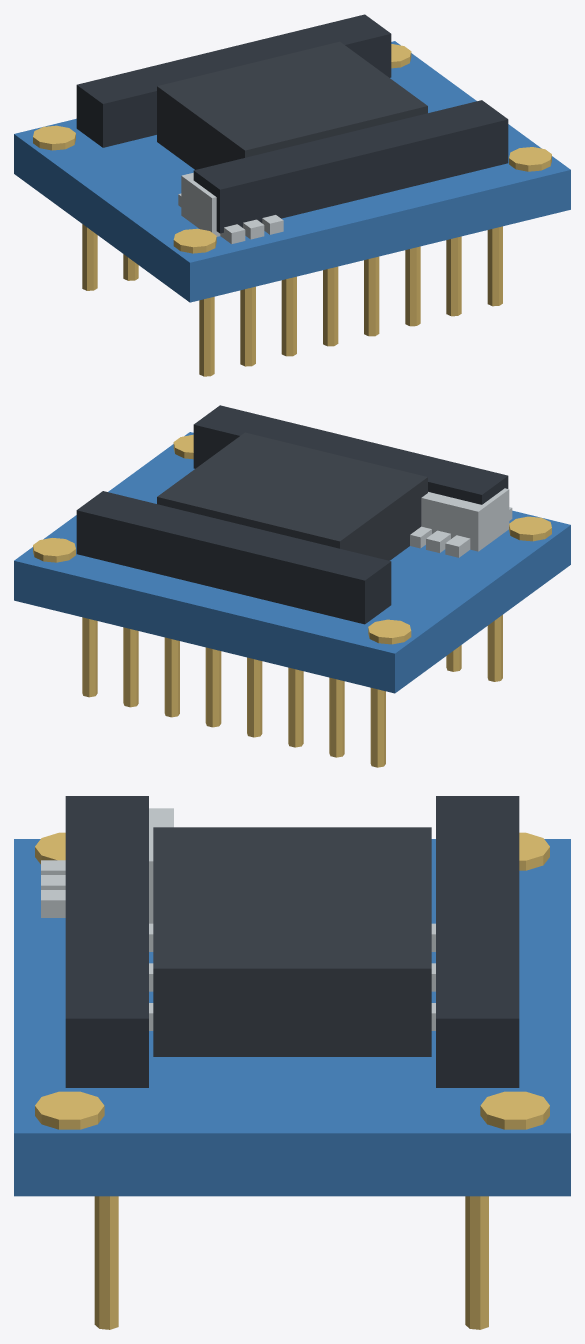
File: product-10.glb
The picture shows the model from 3 angles, top to bottom: view 1: azimuth 30°, elevation 25°; view 2: azimuth 150°, elevation 25°; view 3: azimuth 270°, elevation 25°; orthographic projection. The views are drawn at different scales.
Visible parts, largest first — view 1: product-10; view 2: product-10; view 3: product-10.
Boxes of the visible parts, x1,y1,x2,y2 form: product-10: (14, 14, 570, 376); product-10: (14, 405, 570, 767); product-10: (14, 796, 570, 1329).
Size of the model in its own units: 0.5 by 0.25 by 0.4.
